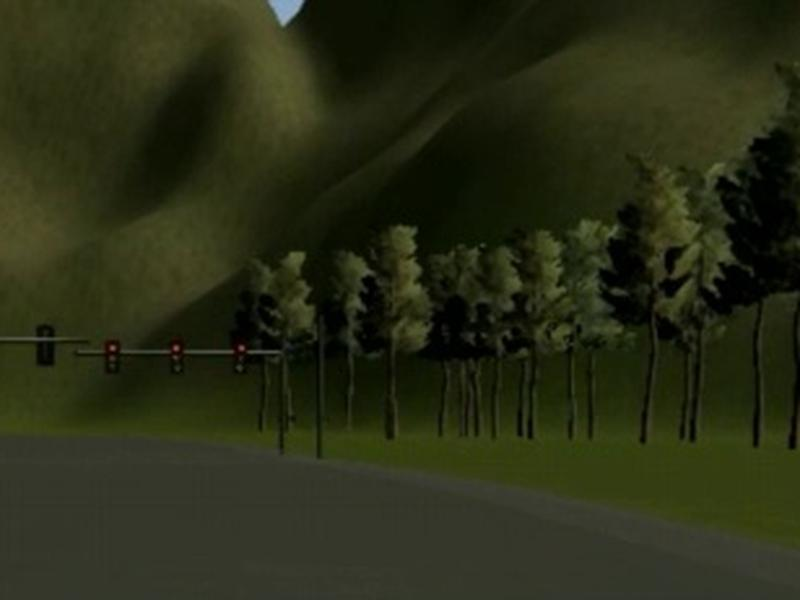Red: (168, 340, 186, 375), (106, 340, 119, 373), (234, 342, 245, 375)
